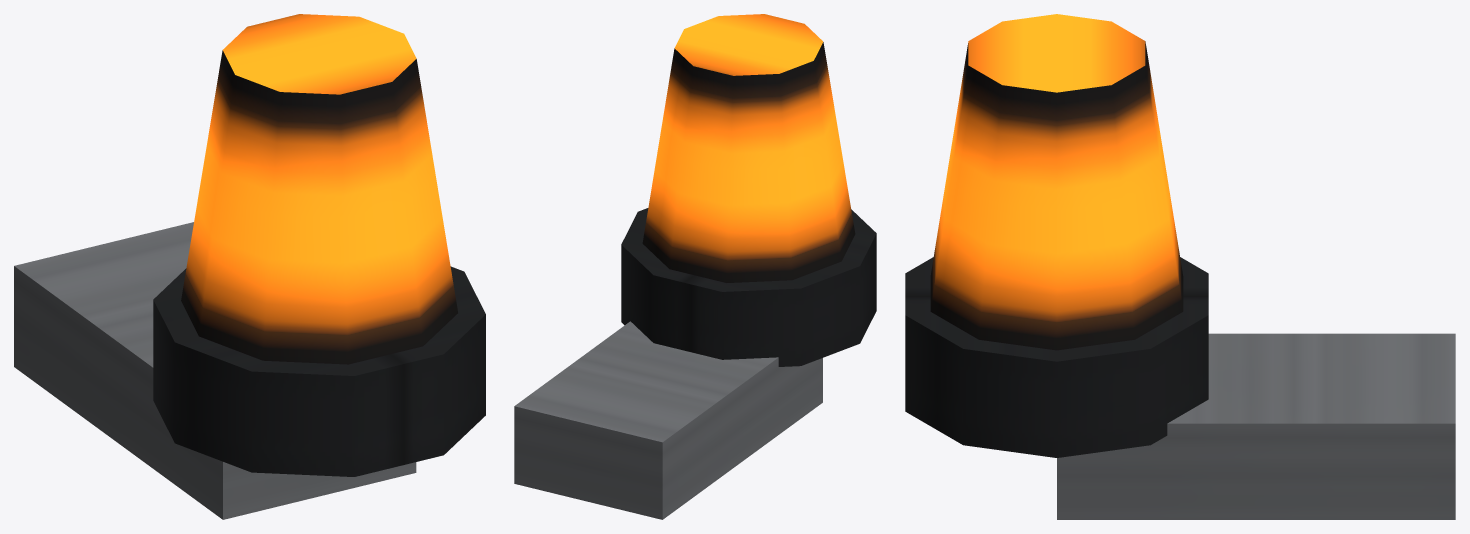
File: SM_INFD_BeaconAmber.fbx
3 renders of one model, left to right at view 1: azimuth 30°, elevation 25°; view 2: azimuth 150°, elevation 25°; view 3: azimuth 270°, elevation 25°, orthographic. The views are drawn at different scales.
Visible parts, largest first — view 1: SM_INFD_BeaconAmber; view 2: SM_INFD_BeaconAmber; view 3: SM_INFD_BeaconAmber.
Part boxes in pixels (x1,y1,x2,y2): SM_INFD_BeaconAmber: (14, 14, 485, 519); SM_INFD_BeaconAmber: (514, 14, 876, 519); SM_INFD_BeaconAmber: (905, 14, 1455, 519).
Bounding box in the file's own units: 0.24 × 0.35 × 0.4141.
